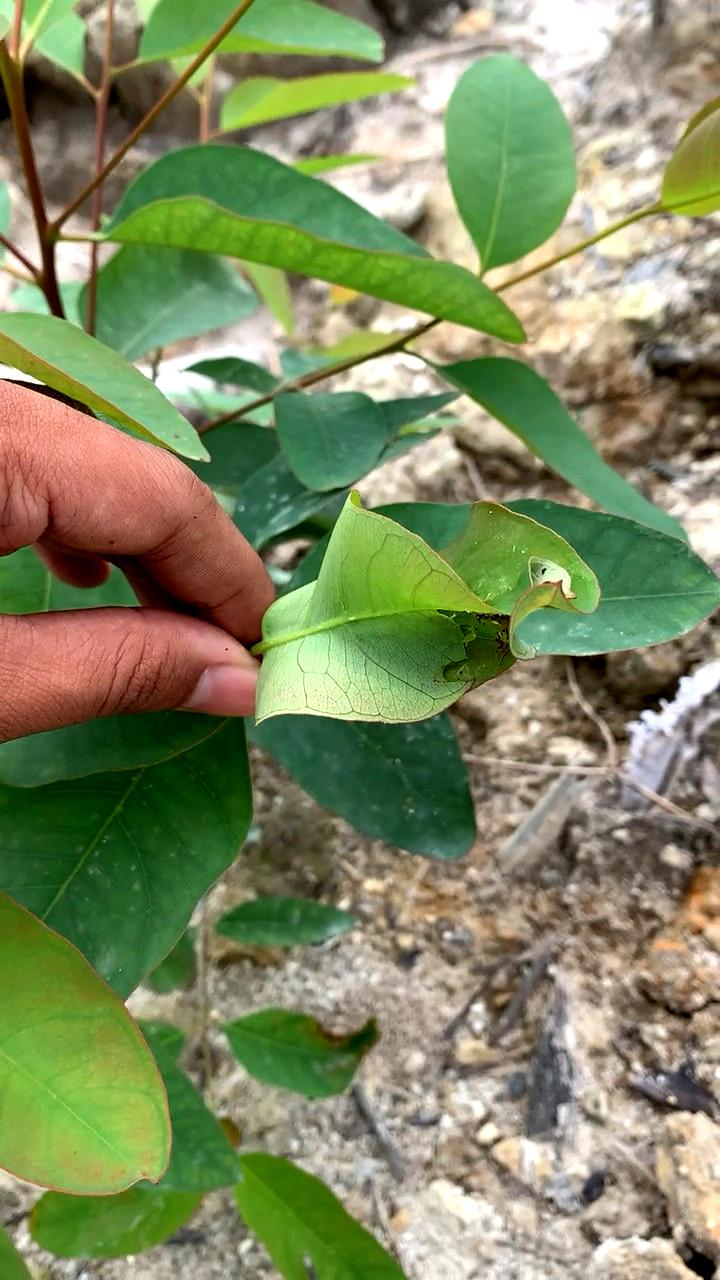Leaf Roller - Leaf: (226, 470, 615, 754)
